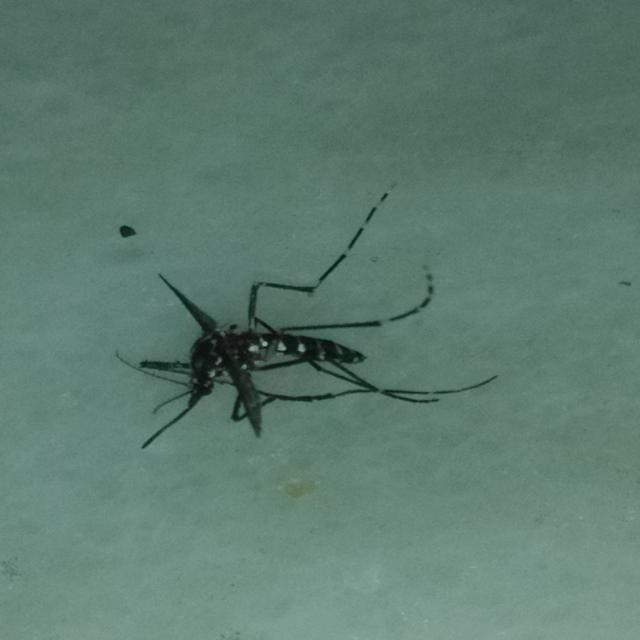albopictus: (103, 166, 508, 457)
